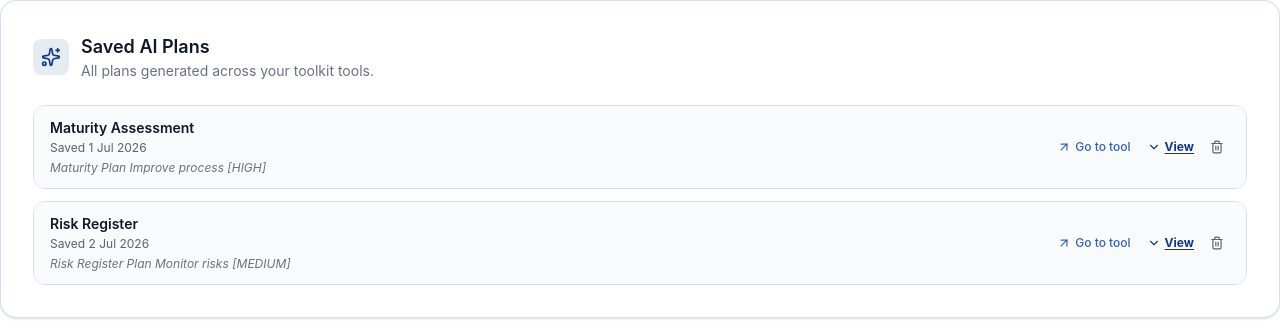
Test: SavedPlansSection — optimistic delete (timing) › removes only the deleted plan row and leaves the other intact
Expected: the text "Maturity Assessment" is shown, [50,119,194,136]
Expected: the text "Risk Register" is shown, [50,215,138,232]
Click the button titled "Delete plan" in the row of "1 Jul 2026": (1217, 147) [1204,134,1230,160]
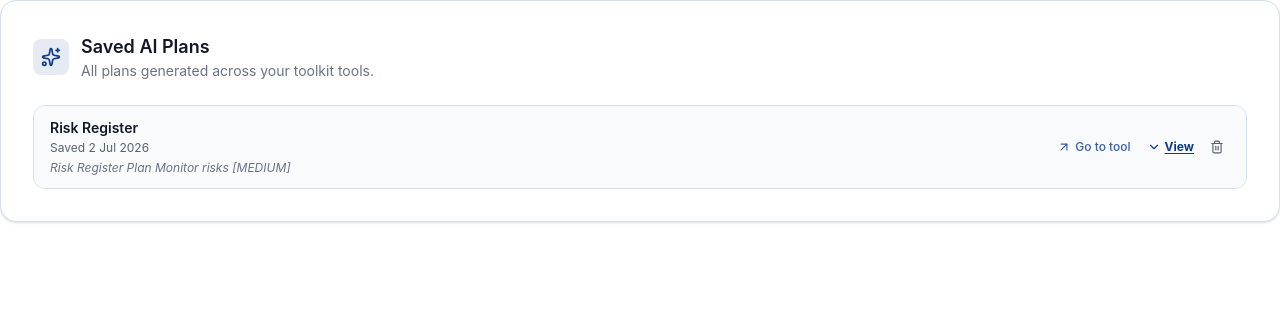
Expected: the text "Risk Register" is shown, [50,119,138,136]
Expected: the text "Maturity Assessment" is gone
